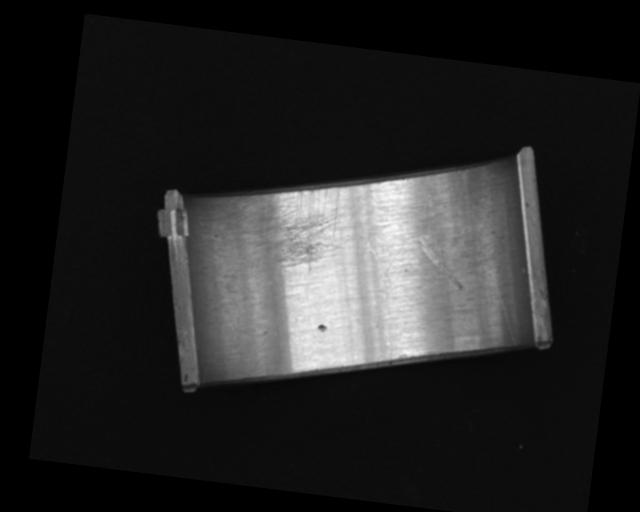bruise: (316, 322, 329, 332)
nick: (349, 240, 406, 362), (473, 255, 526, 348), (415, 241, 468, 290), (417, 186, 436, 244)
scratch: (223, 175, 352, 277)
